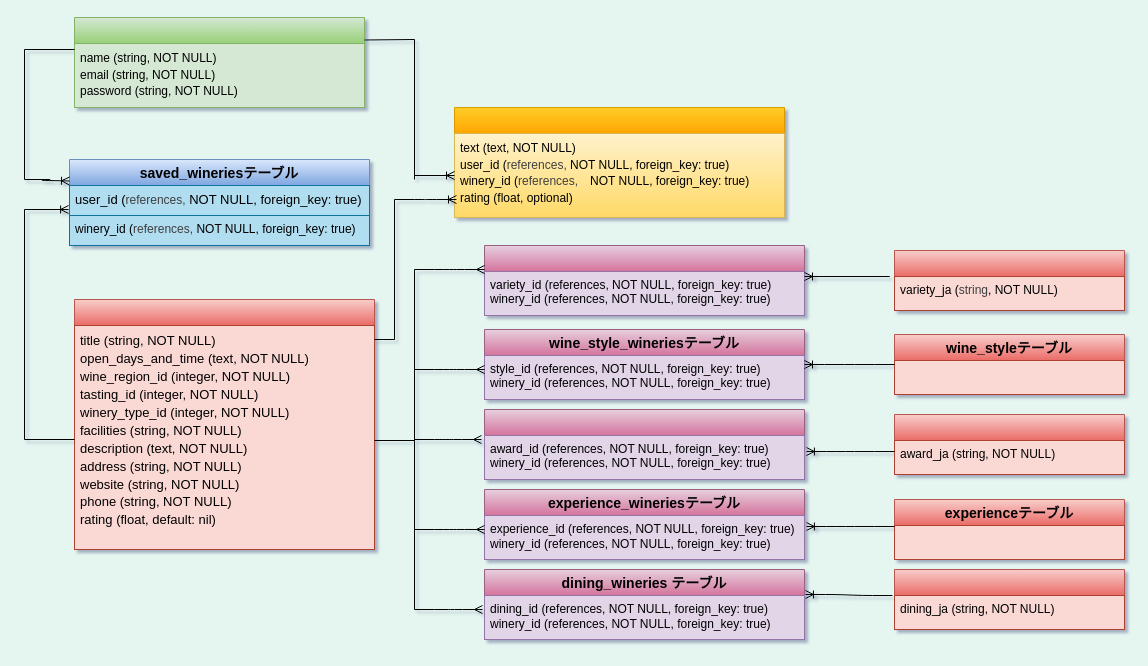
This 1148x666 diagram has some shape labels left out. The box of each missing label's shape, as (x1, y1, x2, y2) in pixels:
awards_wineriesテーブル: (484, 408, 804, 480)
awardsテーブル: (894, 414, 1124, 474)
commentsテーブル: (454, 106, 784, 218)
diningテーブル: (894, 568, 1124, 630)
experience_ja (string, NOT NULL): (894, 524, 1124, 560)
grape_variety_wineriesテーブル: (484, 244, 804, 316)
grape_varietyテーブル: (894, 250, 1124, 310)
style_ja (string, NOT NULL): (894, 360, 1124, 394)
usersテーブル: (74, 16, 364, 108)
wineriesテーブル: (74, 298, 374, 550)
